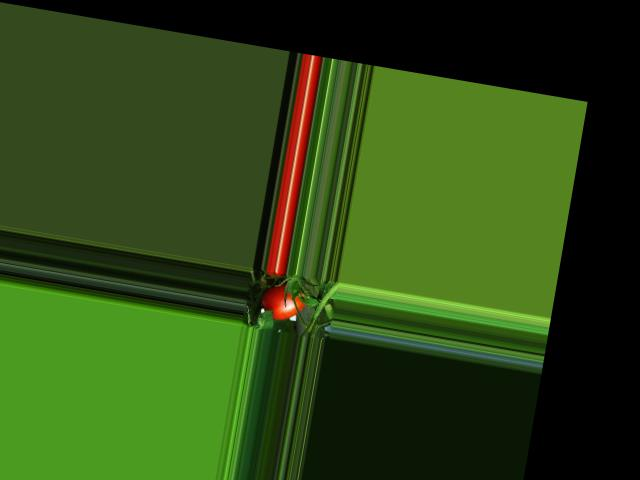tomato: (258, 280, 306, 323)
